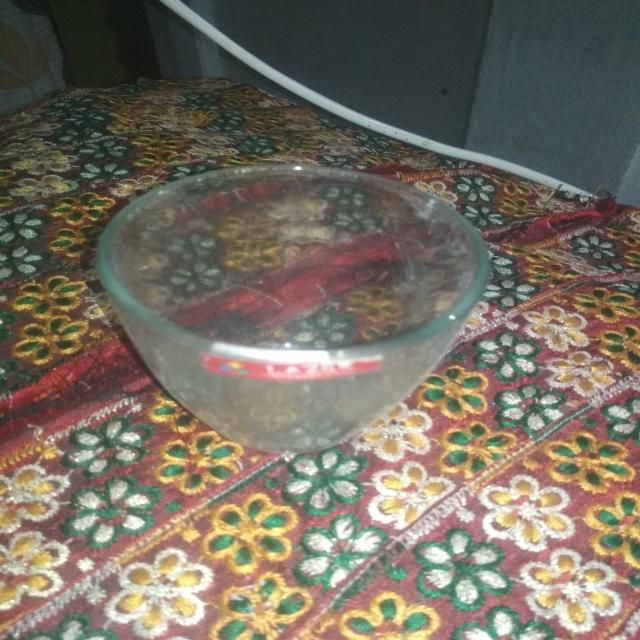Glass: (90, 158, 495, 458)
